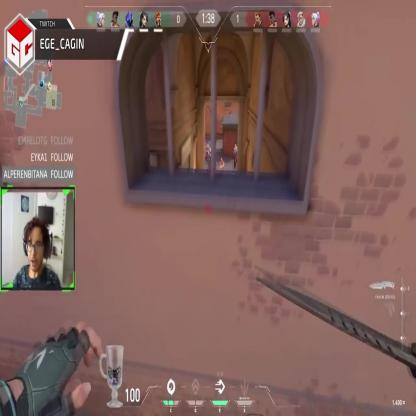enemy: (203, 137, 211, 172), (217, 156, 225, 184), (233, 143, 238, 169)
enemy_head: (205, 140, 208, 148), (220, 157, 223, 162), (234, 144, 237, 149)
